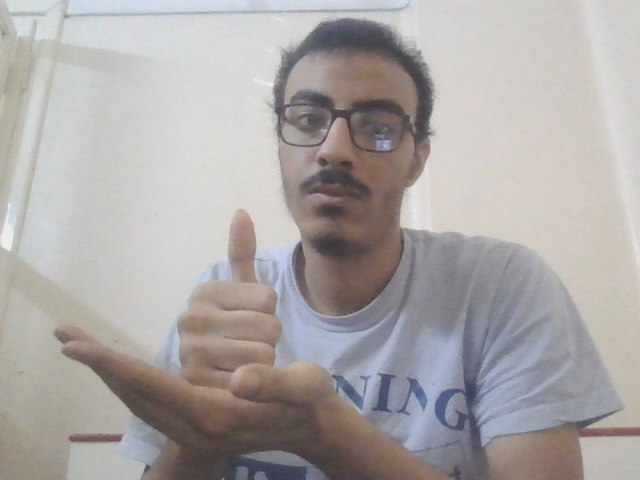Help: (51, 200, 374, 461)
